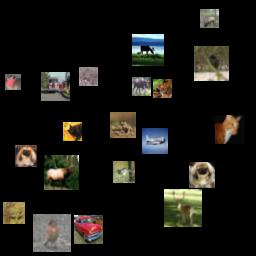airplane: (142, 128, 168, 154)
automobile: (74, 215, 103, 244)
bird: (33, 214, 71, 252), (194, 46, 229, 81), (113, 161, 135, 183)
cat: (215, 115, 244, 144), (63, 122, 82, 141)
deer: (164, 189, 202, 227), (44, 155, 79, 190), (132, 34, 164, 66), (200, 9, 219, 28), (132, 77, 151, 96)
dog: (189, 162, 215, 188), (15, 145, 37, 167), (5, 74, 21, 90)
frog: (110, 112, 136, 138), (3, 202, 25, 224), (153, 79, 172, 98), (79, 67, 98, 86)
truck: (41, 72, 70, 101)
